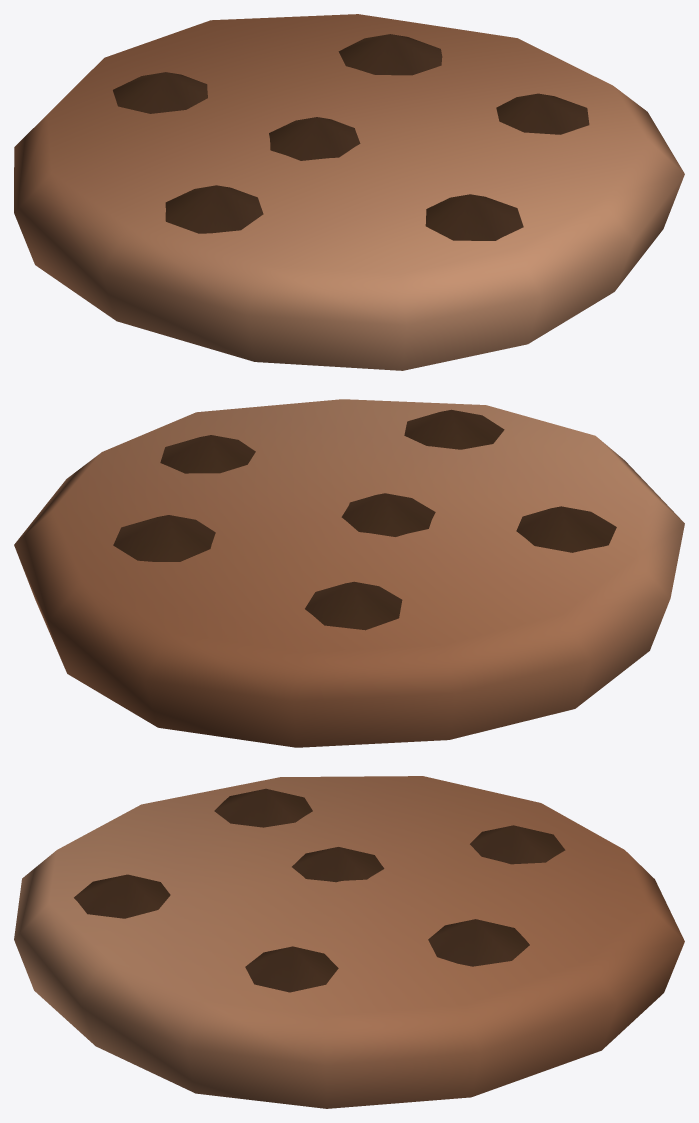
File: Product Cookie.fbx
3 renders of one model, top to bottom at view 1: azimuth 30°, elevation 25°; view 2: azimuth 150°, elevation 25°; view 3: azimuth 270°, elevation 25°, orthographic. The views are drawn at different scales.
Parts seen in each view (by area): view 1: Product_Cookie; view 2: Product_Cookie; view 3: Product_Cookie.
Boxes of the visible parts, bbox=[...] form: Product_Cookie: bbox=[14, 14, 684, 370]; Product_Cookie: bbox=[14, 399, 684, 747]; Product_Cookie: bbox=[14, 776, 684, 1108].
Size of the model in its own units: 29.52 by 6.06 by 30.84.
